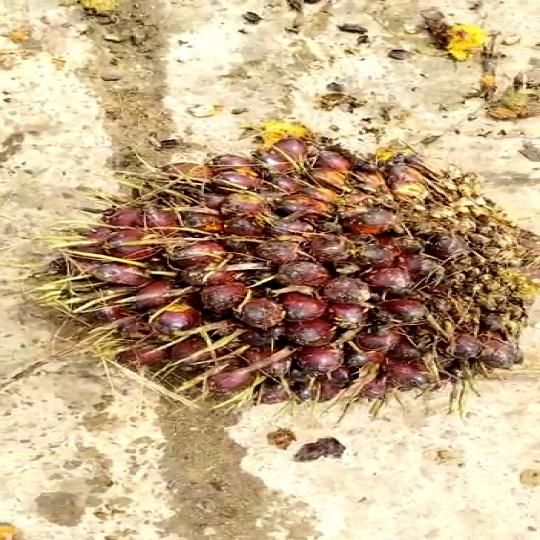kurang masak: (73, 131, 540, 423)
